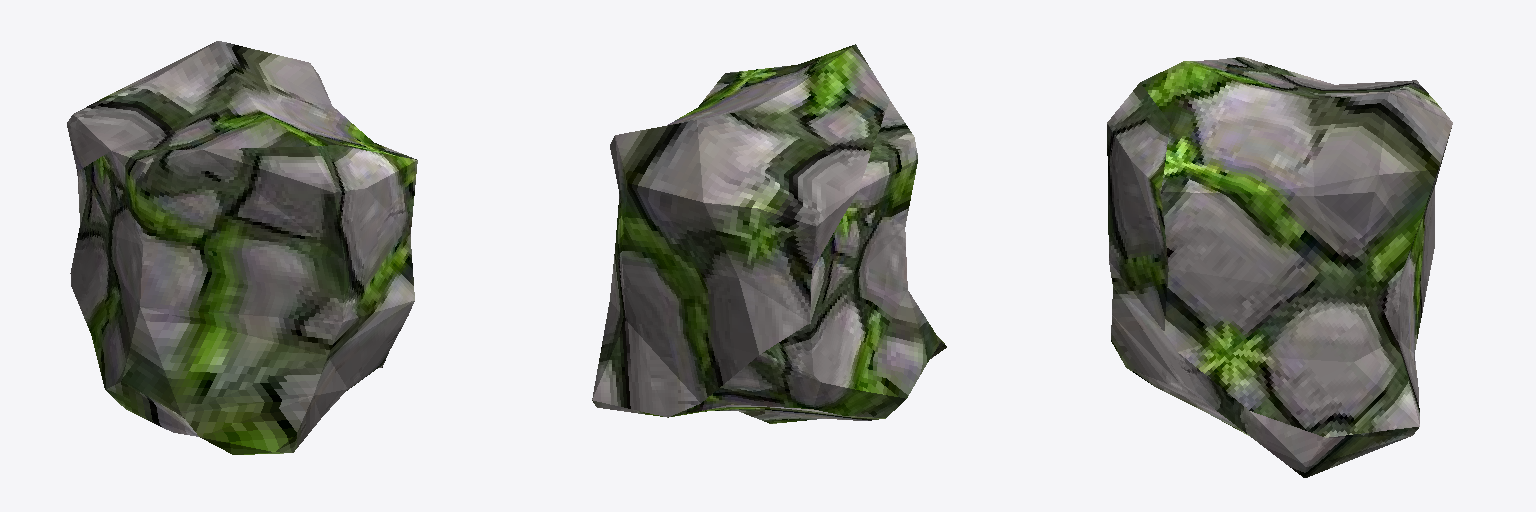
3 views of the same model, side by side, from view 1: azimuth 30°, elevation 25°; view 2: azimuth 150°, elevation 25°; view 3: azimuth 270°, elevation 25° (orthographic).
Visible parts, largest first — view 1: Cube; view 2: Cube; view 3: Cube.
Boxes of the visible parts, box(x1,y1,x2,y2) form: Cube: box(67, 41, 417, 454); Cube: box(592, 44, 946, 423); Cube: box(1107, 57, 1452, 477).
Size of the model in its own units: 1.89 by 2.2 by 1.93.
1 materials, 1 textured.